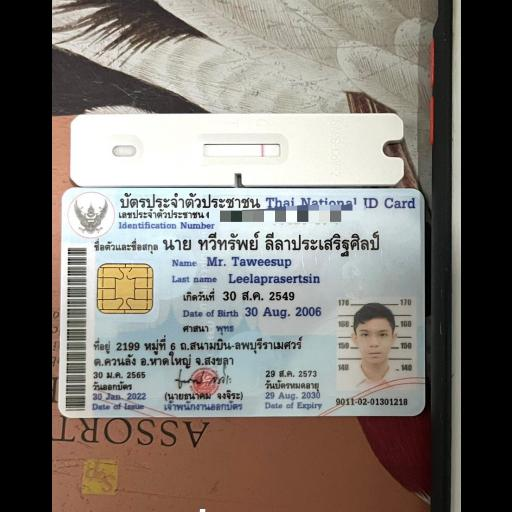Neg: (70, 113, 402, 185)
